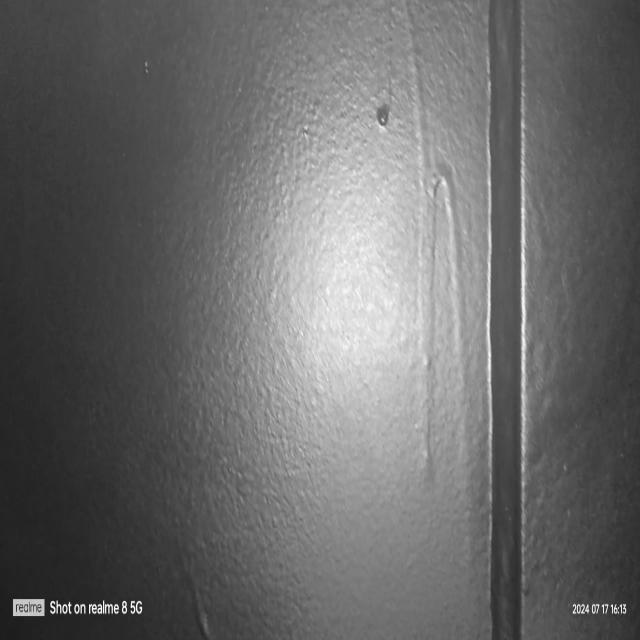paint drips: (373, 2, 477, 503), (178, 555, 223, 640)
